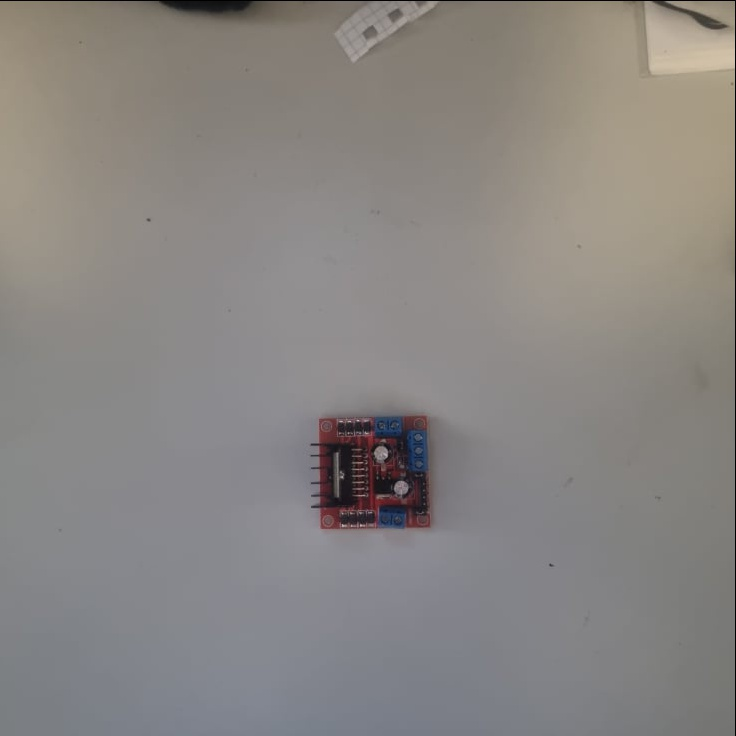MOTOR: (311, 409, 431, 530)
